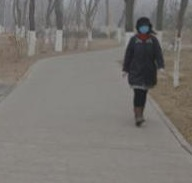person: (120, 17, 167, 126)
